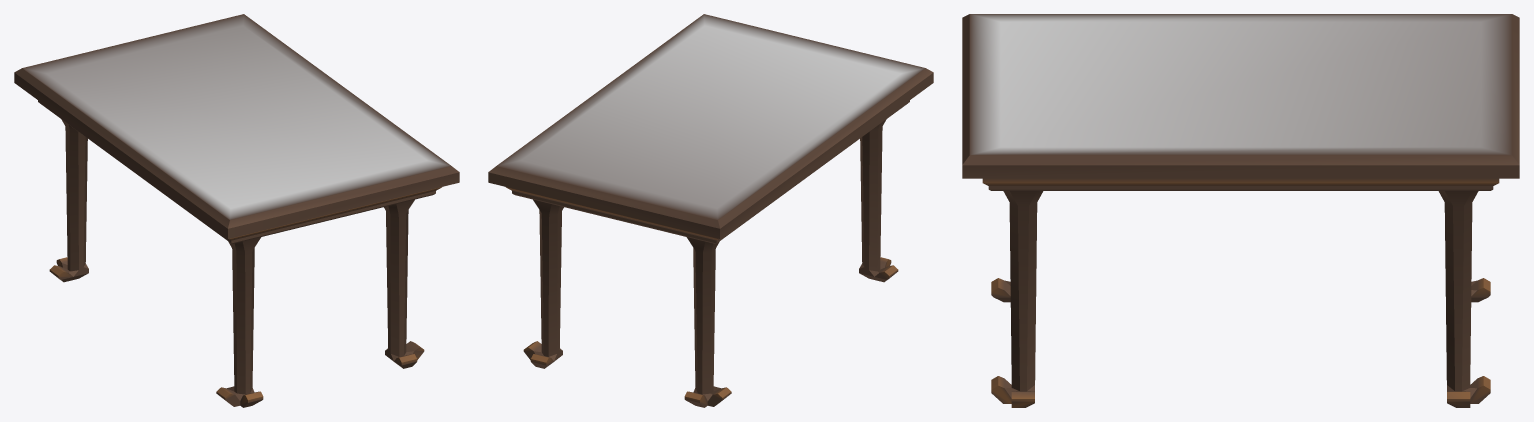
File: ItalianTable.fbx
3 views of the same model, side by side, from view 1: azimuth 30°, elevation 25°; view 2: azimuth 150°, elevation 25°; view 3: azimuth 270°, elevation 25° (orthographic). The views are drawn at different scales.
Visible parts, largest first — view 1: Cube; view 2: Cube; view 3: Cube.
Boxes of the visible parts, bbox=[...] form: Cube: bbox=[14, 14, 459, 407]; Cube: bbox=[488, 14, 933, 407]; Cube: bbox=[962, 14, 1519, 407].
Bounding box in the file's own units: 384 × 323 × 614.
